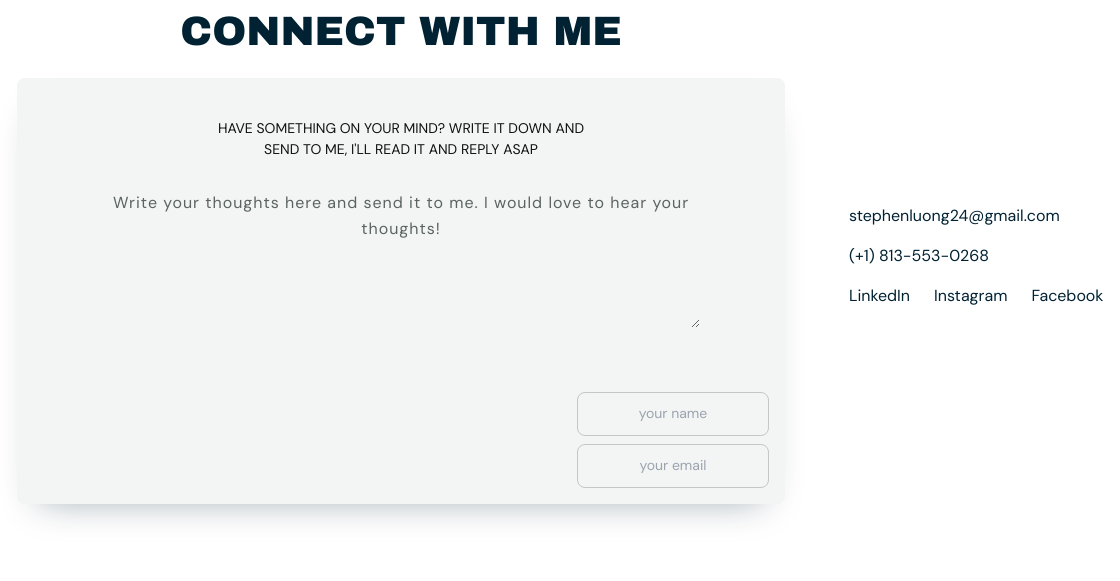
Scenario: local previews never claim the message was submitted
Step 1. Type "Alex & Sam" into the field labelled "your name" → (673, 414), box 577,392 -> 769,436
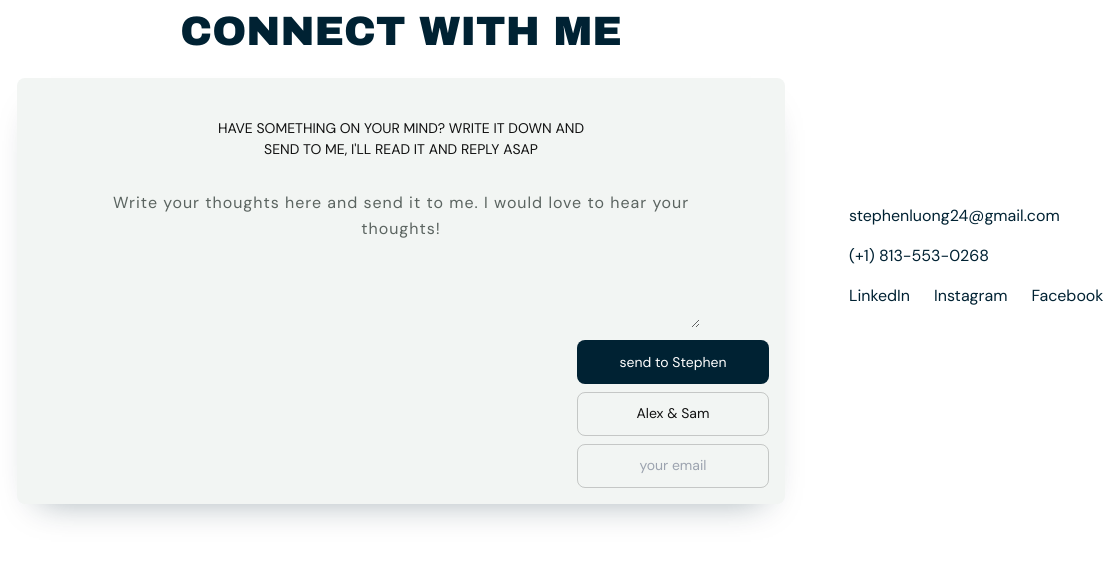
Step 2. Type "alex@example.com" into the field labelled "your email" → (673, 466), box 577,444 -> 769,488
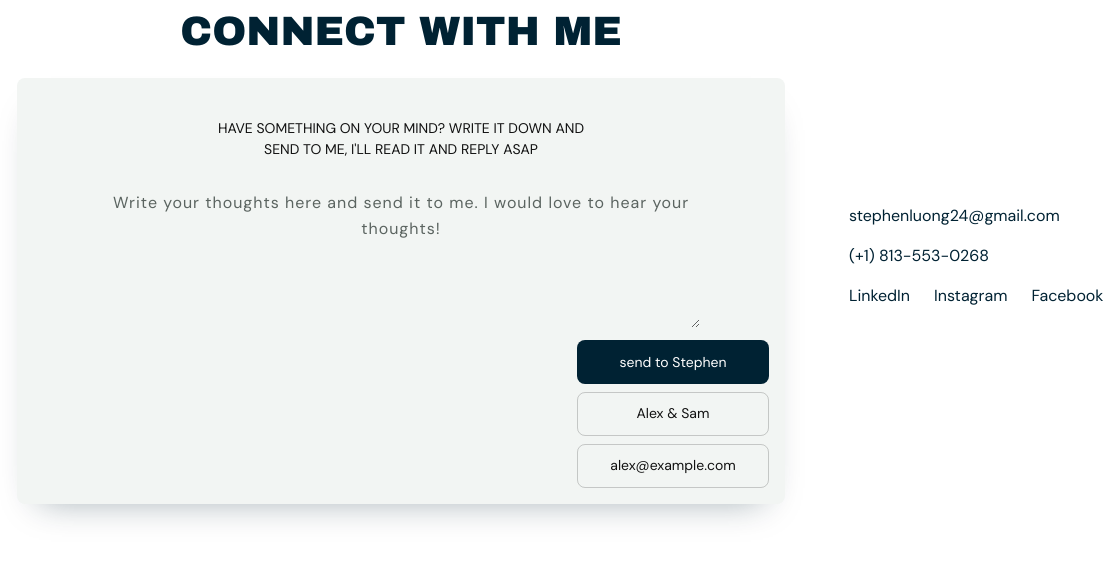
Step 3. Replace the text in the text box named "Your message" with "Hello Cuong" → (401, 254), box 102,180 -> 700,328
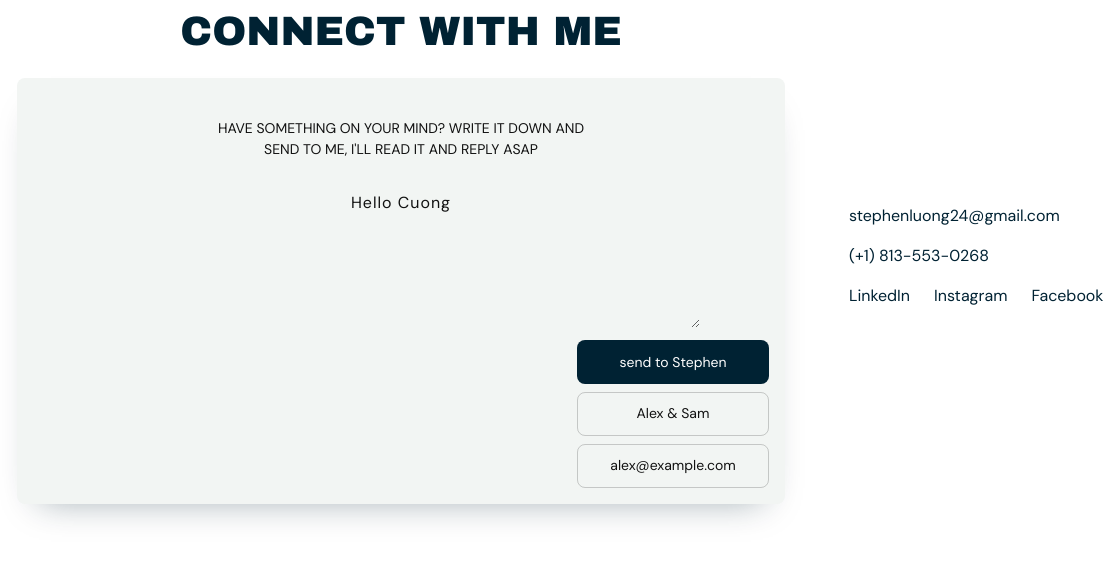
Step 4. Submit the form named "Send Stephen a message", box 17,78 -> 785,504
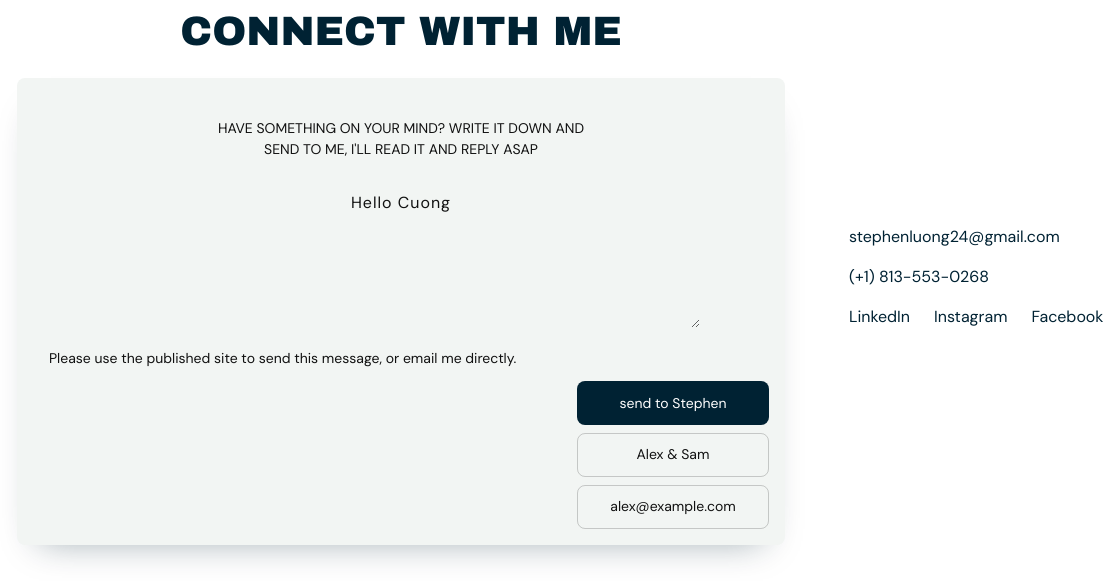
Expected: the message does not show "has been submitted", 49,349 -> 516,367
Expected: the message shows "use the published site", 49,349 -> 516,367
